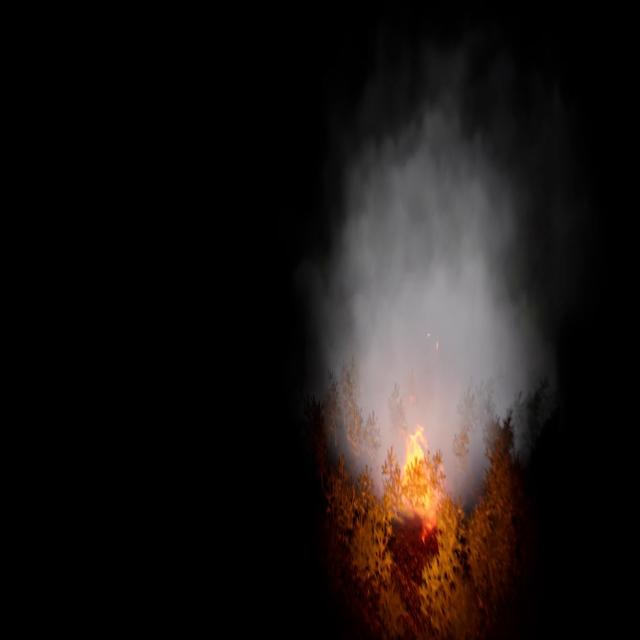fire: (397, 408, 439, 539)
smoke: (307, 55, 560, 516)
